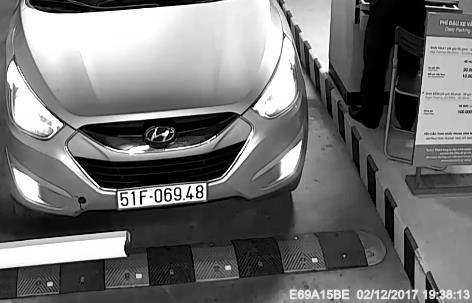License-plate: (112, 180, 220, 214)
